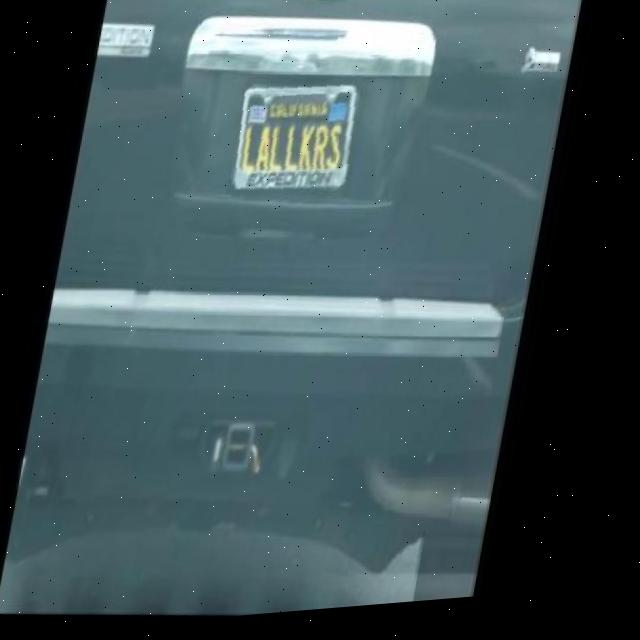LicensePlate: (229, 74, 373, 210)
